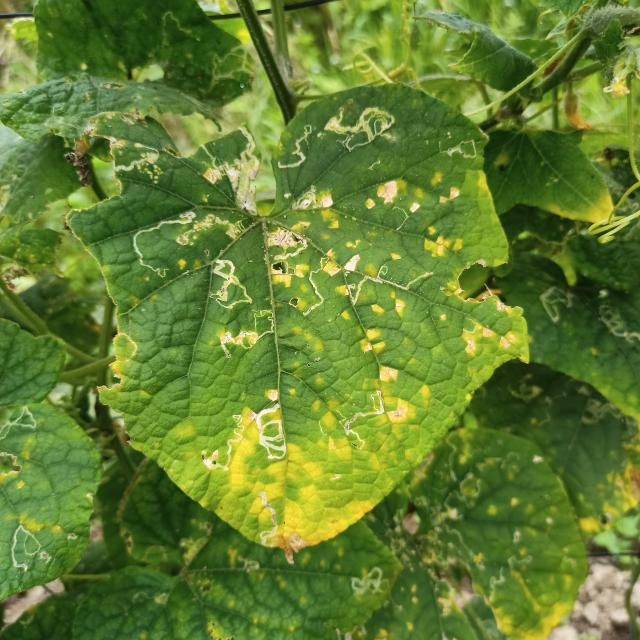disease_cucumber: (276, 174, 518, 388), (190, 382, 433, 561)
